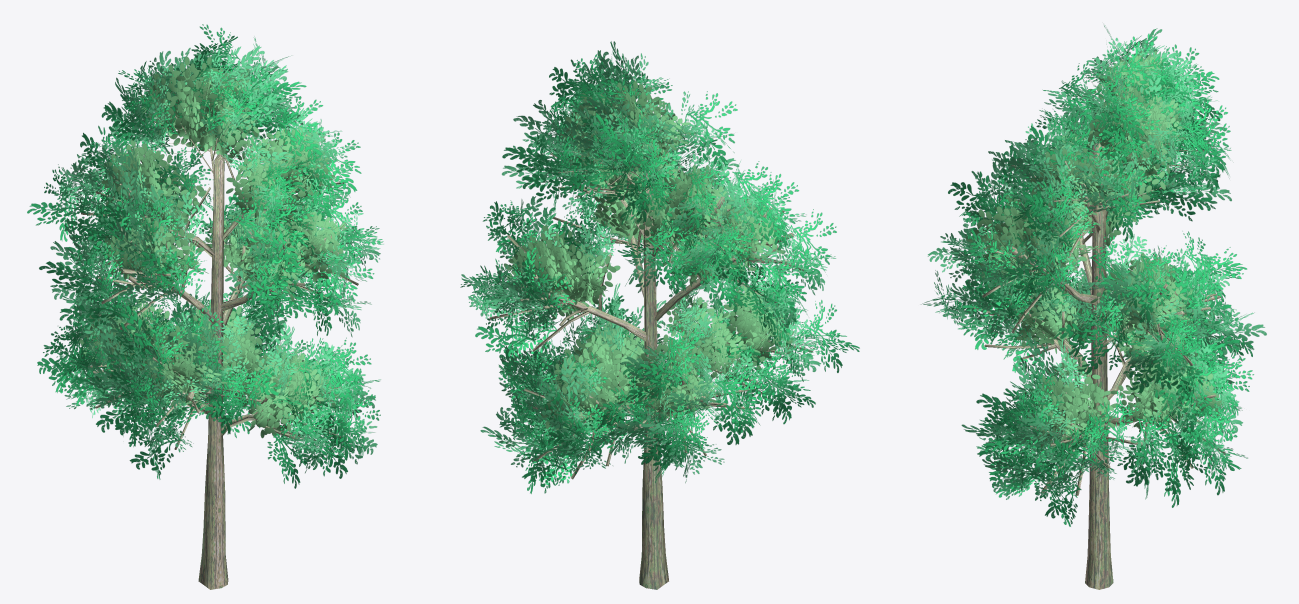
Rendered from jabami-tree-v1.glb.
3 views of the same model, side by side, from view 1: azimuth 30°, elevation 25°; view 2: azimuth 150°, elevation 25°; view 3: azimuth 270°, elevation 25° (orthographic). The views are drawn at different scales.
Visible parts, largest first — view 1: ..\..\users\hp-touch\documents\treeitsave\texture\tron_tree_ (×5); view 2: ..\..\users\hp-touch\documents\treeitsave\texture\tron_tree_ (×5); view 3: ..\..\users\hp-touch\documents\treeitsave\texture\tron_tree_ (×5).
Boxes of the visible parts, left/top/right/bottom form: ..\..\users\hp-touch\documents\treeitsave\texture\tron_tree_ (×5): left=27, top=24, right=383, bottom=589; ..\..\users\hp-touch\documents\treeitsave\texture\tron_tree_ (×5): left=460, top=41, right=859, bottom=589; ..\..\users\hp-touch\documents\treeitsave\texture\tron_tree_ (×5): left=921, top=25, right=1266, bottom=589.
Bounding box in the file's own units: 5.46 × 8.02 × 4.88.
Materials: 4 (4 with a texture image).
